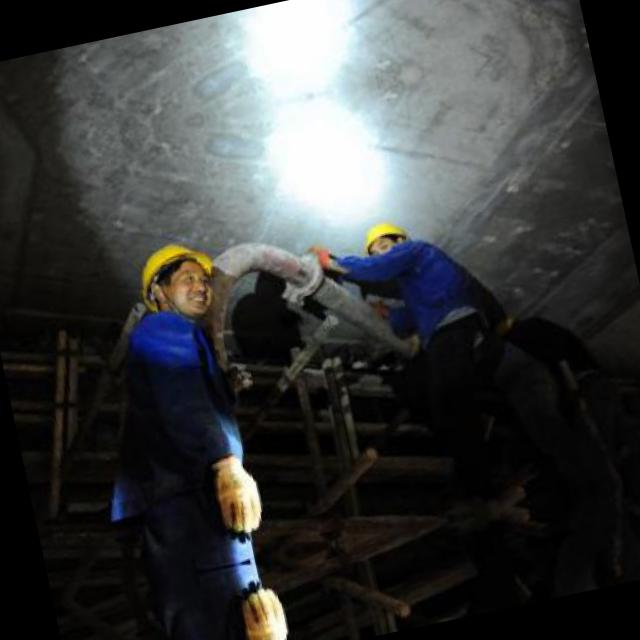helmet: (128, 230, 227, 329), (353, 214, 415, 273)
